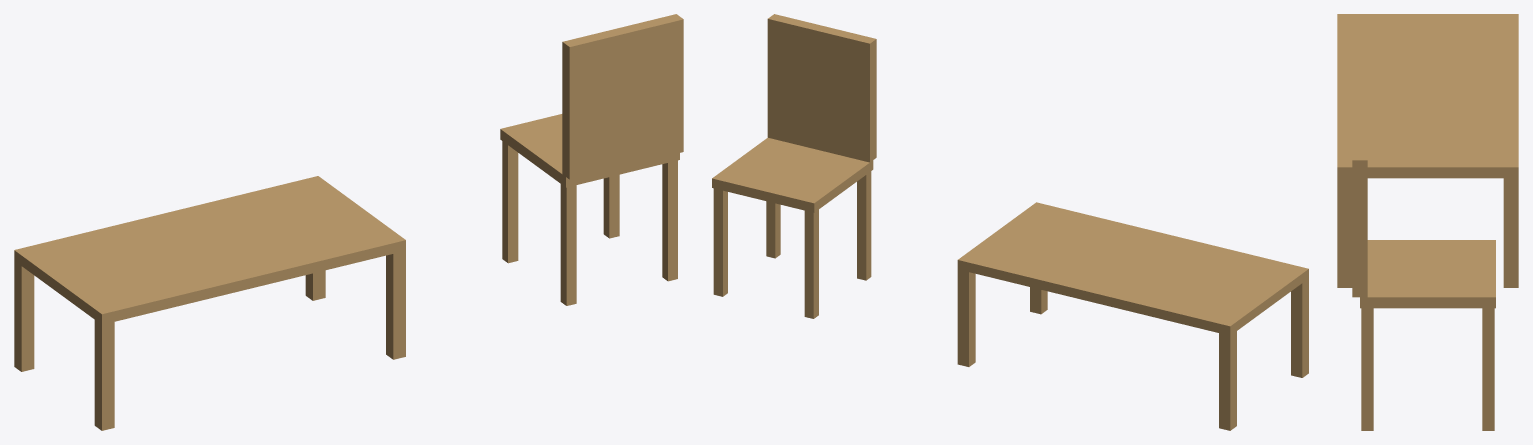
File: result.glb
3 views of the same model, side by side, from view 1: azimuth 30°, elevation 25°; view 2: azimuth 150°, elevation 25°; view 3: azimuth 270°, elevation 25° (orthographic). The views are drawn at different scales.
Parts seen in each view (by area): view 1: CoffeeTableTop, ChairBack, ChairSeat, CoffeeTableLeg1, CoffeeTableLeg3, CoffeeTableLeg2, ChairLeg1, ChairLeg3, ChairLeg2, ChairLeg4; view 2: CoffeeTableTop, ChairBack, ChairSeat, CoffeeTableLeg4, CoffeeTableLeg3, CoffeeTableLeg1, ChairLeg3, ChairLeg4, ChairLeg1, ChairLeg2; view 3: CoffeeTableTop, ChairSeat, ChairBack, CoffeeTableLeg2, CoffeeTableLeg4, ChairLeg2, ChairLeg4.
Boxes of the visible parts, <box> form: CoffeeTableTop: <box>14,176,405,324</box>; ChairBack: <box>562,14,683,179</box>; ChairSeat: <box>500,114,679,187</box>; CoffeeTableLeg1: <box>94,320,114,430</box>; CoffeeTableLeg3: <box>14,261,34,371</box>; CoffeeTableLeg2: <box>386,251,405,359</box>; ChairLeg1: <box>560,184,576,305</box>; ChairLeg3: <box>502,141,518,263</box>; ChairLeg2: <box>662,160,677,281</box>; ChairLeg4: <box>603,174,619,238</box>; CoffeeTableTop: <box>957,202,1308,335</box>; ChairBack: <box>767,14,876,162</box>; ChairSeat: <box>712,138,873,212</box>; CoffeeTableLeg4: <box>957,269,975,366</box>; CoffeeTableLeg3: <box>1219,331,1236,430</box>; CoffeeTableLeg1: <box>1291,278,1308,377</box>; ChairLeg3: <box>804,209,818,318</box>; ChairLeg4: <box>713,188,727,296</box>; ChairLeg1: <box>857,171,871,280</box>; ChairLeg2: <box>766,201,780,258</box>; CoffeeTableTop: <box>1337,14,1518,178</box>; ChairSeat: <box>1360,240,1495,308</box>; ChairBack: <box>1352,103,1367,297</box>; CoffeeTableLeg2: <box>1337,178,1352,287</box>; CoffeeTableLeg4: <box>1503,178,1518,287</box>; ChairLeg2: <box>1361,308,1373,430</box>; ChairLeg4: <box>1482,308,1494,430</box>.
Bounding box in the file's own units: 2.33 × 0.99 × 0.6.
